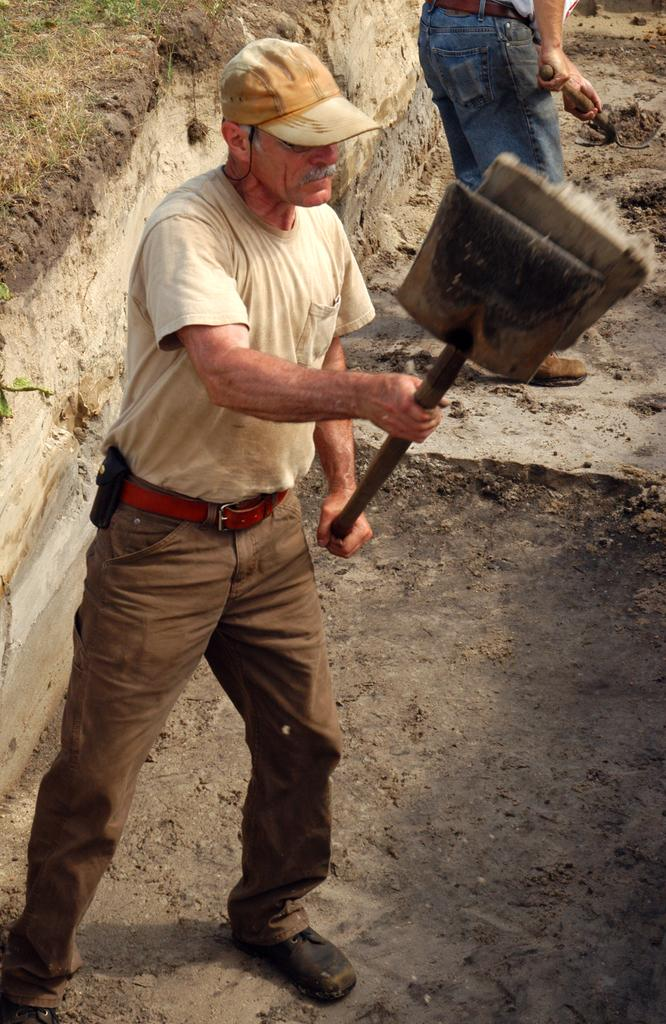Hat: (221, 34, 382, 148)
